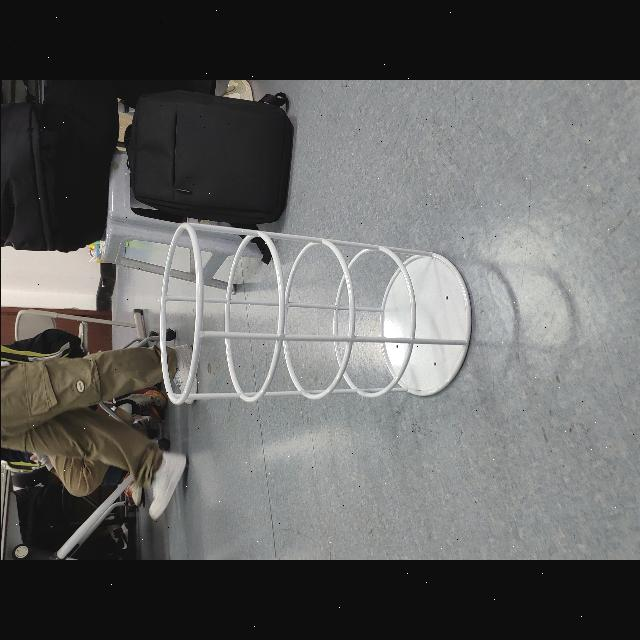S: (156, 220, 474, 406)
